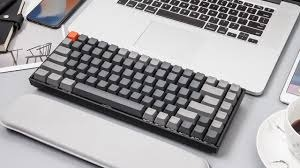keyboard: (29, 27, 251, 155), (112, 0, 275, 48)
